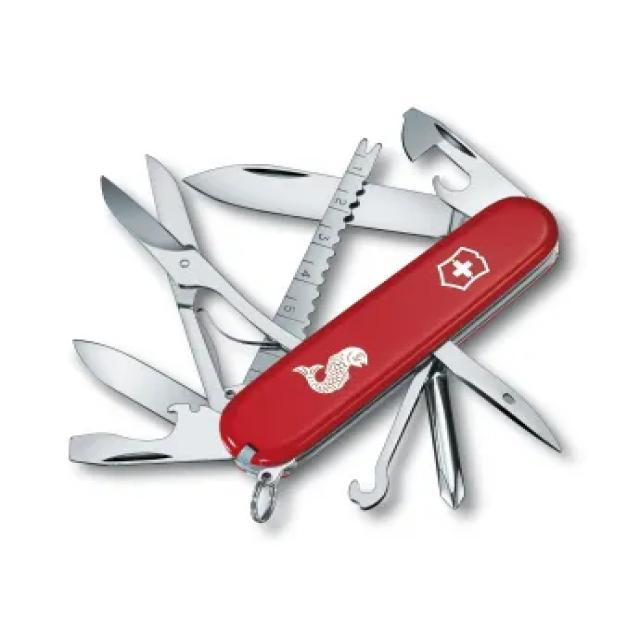knife victorinox: (219, 198, 555, 466)
